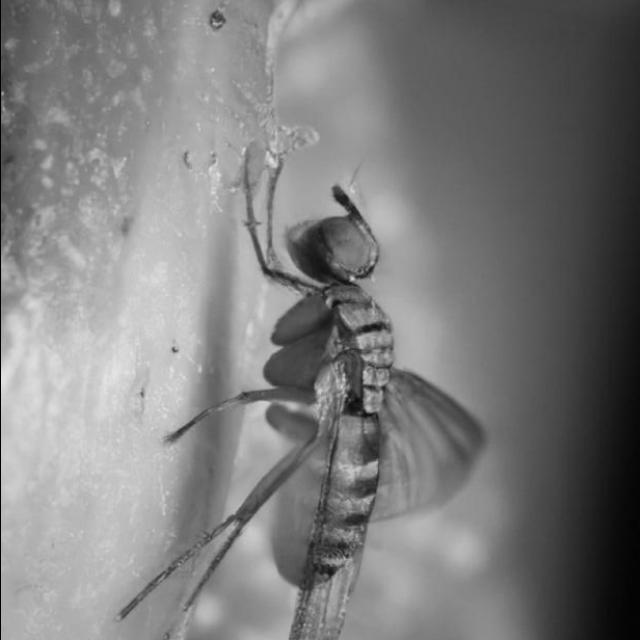Fruit fly: (101, 144, 495, 640)
